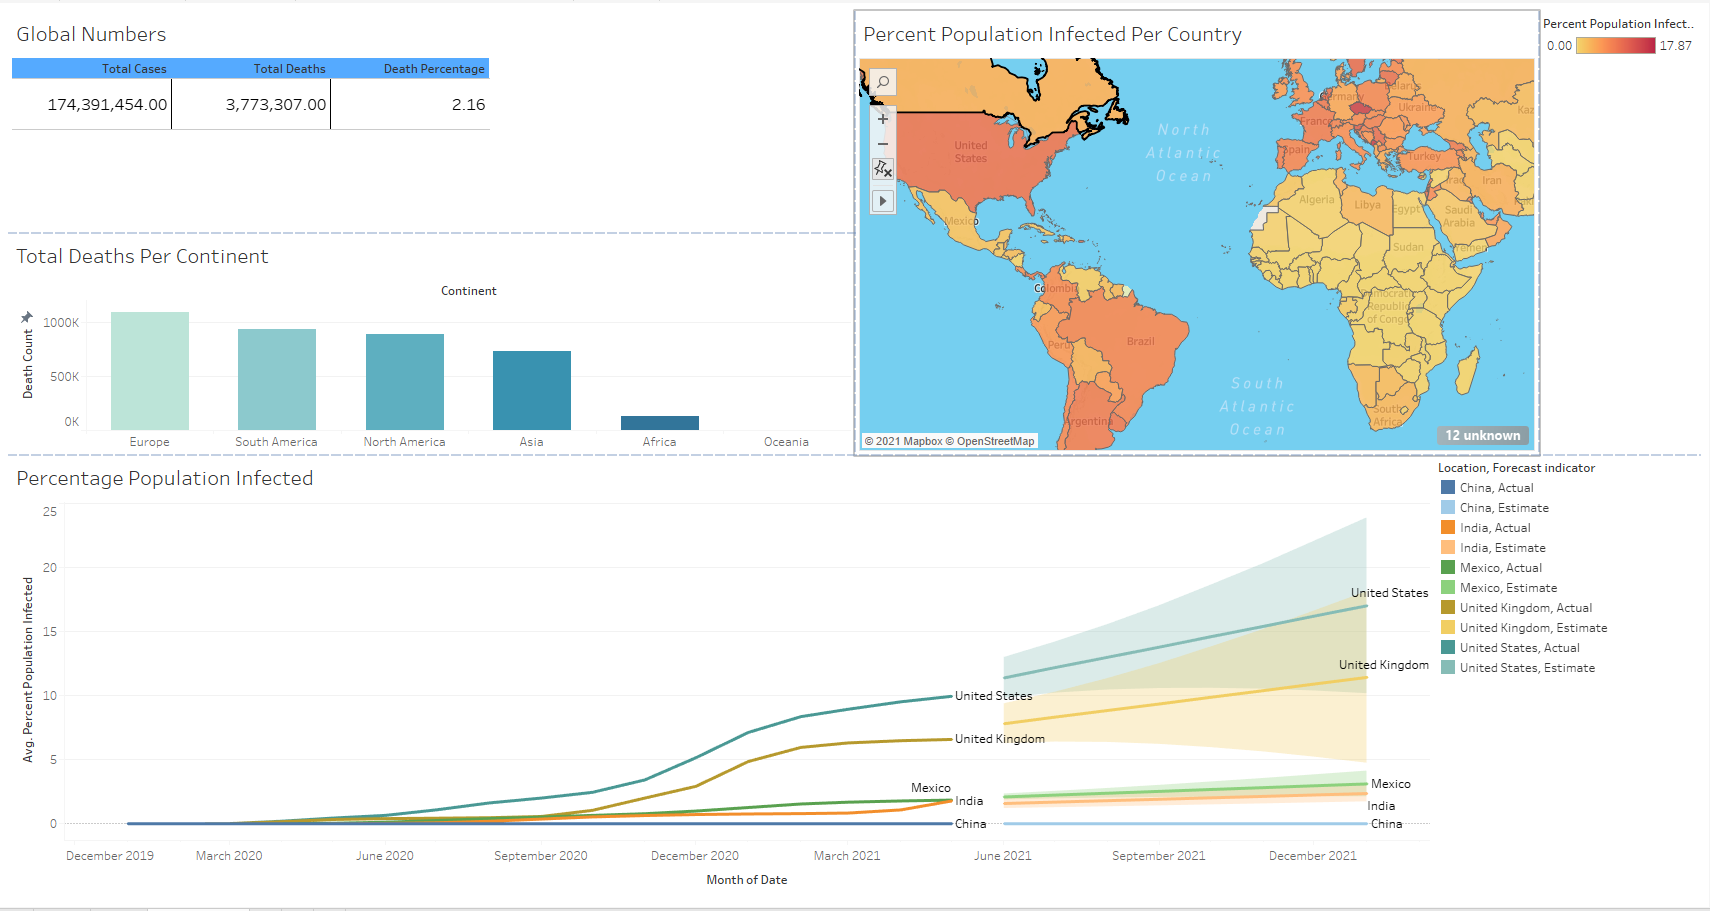

Layout of this report page (visuals, bound fields, positions):
{"tool":"tableau","page":{"name":"Dashboard 1","canvas":[1000,1000],"units":"permille","ordinal":0},"visuals":[{"type":"worksheet","box":[0,0,1000,1000]},{"type":"worksheet","title":"Sheet 1","mark":"Automatic","box":[4.8,8.8,495.2,245.6]},{"type":"worksheet","title":"Sheet 3","mark":"Automatic","box":[500,8.8,400.3,491.2]},{"type":"worksheet","title":"Sheet 3","mark":"Automatic","param":"[federated.19wi4x01nw3a9i1codst41j1mryu].[sum:PercentPopulationInfected:qk]","box":[900.3,8.8,95,491.2]},{"type":"worksheet","title":"Sheet 2","mark":"Automatic","rows":["TotalDeathCount"],"cols":["location"],"box":[4.8,254.4,495.2,245.6]},{"type":"worksheet","param":"horz","box":[4.8,500,990.5,491.2]},{"type":"worksheet","box":[4.8,500,990.5,491.2]},{"type":"worksheet","title":"Sheet 4","mark":"Automatic","rows":["PercentPopulationInfected"],"cols":["date"],"box":[4.8,500,834.6,491.2]},{"type":"worksheet","title":"Sheet 4","mark":"Automatic","rows":["PercentPopulationInfected"],"cols":["date"],"param":"[federated.1363eem1m0mol5118gxg30dulhud].[none:Location:nk]\n[federated.1363eem1m","box":[839.3,500,156,491.2]}]}

Visuals, with their boxes on the dashboard's canvas, which has no fixed pixel size, in thousandths of its width and height (x1, y1, x2, y2). These are canvas units, not pixel positions in the 1710x911 screenshot, which may show the page scaled, cropped or inside an application window:
worksheet: <bbox>0, 0, 1000, 1000</bbox>
"Sheet 1" worksheet: <bbox>5, 9, 500, 254</bbox>
"Sheet 3" worksheet: <bbox>500, 9, 900, 500</bbox>
"Sheet 3" worksheet: <bbox>900, 9, 995, 500</bbox>
"Sheet 2" worksheet: <bbox>5, 254, 500, 500</bbox>
worksheet: <bbox>5, 500, 995, 991</bbox>
worksheet: <bbox>5, 500, 995, 991</bbox>
"Sheet 4" worksheet: <bbox>5, 500, 839, 991</bbox>
"Sheet 4" worksheet: <bbox>839, 500, 995, 991</bbox>
